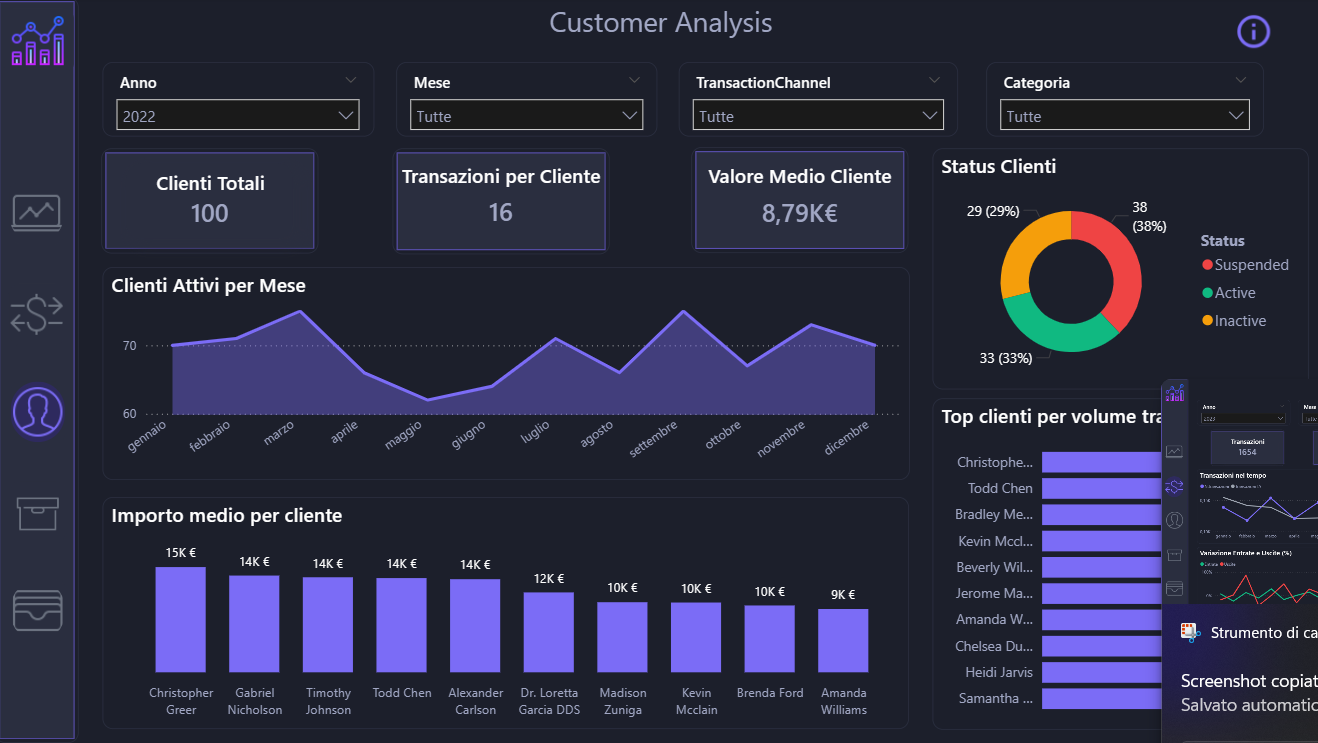

Layout of this report page (visuals, bound fields, positions):
{"tool":"powerbi","page":{"name":"Costumer Analysis","canvas":[1280,720],"ordinal":2},"visuals":[{"type":"shape","box":[0,0,80.8,720.2],"z":0},{"type":"textbox","box":[486.2,0,308.8,83.8],"z":1000},{"type":"slicer","fields":{"Values":["Calendario.Date.Variazione.Gerarchia data.Mese"]},"box":[387.7,62.2,252.4,71.9],"z":2000},{"type":"image","box":[13.3,178.6,54.3,60.3],"z":3000},{"type":"image","box":[13.3,276.3,54.3,60.3],"z":4000},{"type":"image","box":[14.5,370.4,54.3,60.3],"z":5000},{"type":"image","box":[14.5,466.9,54.3,60.3],"z":6000},{"type":"image","box":[14.5,562.2,54.3,60.3],"z":7000},{"type":"slicer","fields":{"Values":["Calendario.Date.Variazione.Gerarchia data.Anno"]},"box":[103.6,62.2,262.1,71.9],"z":8000},{"type":"slicer","fields":{"Values":["FactTransaction.TransactionChannel"]},"box":[659.6,62.2,269.5,71.9],"z":9000},{"type":"slicer","fields":{"Values":["DimProductCategory.ProductCategoryName"]},"box":[957.1,62.2,268.2,71.9],"z":10000},{"type":"shape","box":[102.8,146.3,209.7,101.2],"z":11000},{"type":"card","title":"Clienti Totali","fields":{"Values":["Misure cliente.N.customer"]},"box":[127.2,160.9,160.9,73.2],"z":12000},{"type":"shape","box":[383.1,145.8,209.7,102.4],"z":13000},{"type":"shape","box":[672,144.6,209.7,102.4],"z":14000},{"type":"card","title":"Valore Medio Cliente","fields":{"Values":["Misure cliente.Valore Medio Cliente"]},"box":[672.4,159.2,209.9,75.5],"z":15000},{"type":"card","title":"Transazioni per Cliente","fields":{"Values":["Misure cliente.Avg Transazioni per cliente"]},"box":[378.7,159.2,219.6,72.7],"z":16000},{"type":"barChart","title":"Top clienti per volume transazioni","fields":{"Category":["DimCustomer.FullName"],"Y":["Misure transazioni.N.transazioni"]},"box":[904.8,387.3,363.1,319.7],"z":17000},{"type":"clusteredColumnChart","title":"Importo medio per cliente","fields":{"Category":["DimCustomer.FullName"],"Y":["Misure transazioni.Saldo medio per conto"]},"box":[103.8,482.6,778.2,224.4],"z":18000},{"type":"lineChart","fields":{"Category":["Calendario.Date.Variazione.Gerarchia data.Mese"],"Y":["Misure cliente.Clienti Attivi"]},"box":[104.3,260.7,779.4,205.8],"z":19000},{"type":"image","box":[6.9,11,68.6,63.1],"z":20000},{"type":"donutChart","title":"Status Clienti","fields":{"Category":["DimCustomer.Status"],"Y":["CountNonNull(DimCustomer.CustomerID)"]},"box":[904.8,146,363.1,232.8],"z":21000},{"type":"actionButton","box":[1192,9.7,45.8,47.1],"z":21001}]}

Visuals, with their boxes on the page's 1280x720 design canvas (x1, y1, x2, y2). These are canvas units, not pixel positions in the 1318x743 screenshot, which may show the page scaled, cropped or inside an application window:
shape: [0,0,81,720]
textbox: [486,0,795,84]
slicer - Calendario.Date.Variazione.Gerarchia data.Mese: [388,62,640,134]
image: [13,179,68,239]
image: [13,276,68,337]
image: [14,370,69,431]
image: [14,467,69,527]
image: [14,562,69,622]
slicer - Calendario.Date.Variazione.Gerarchia data.Anno: [104,62,366,134]
slicer - FactTransaction.TransactionChannel: [660,62,929,134]
slicer - DimProductCategory.ProductCategoryName: [957,62,1225,134]
shape: [103,146,312,248]
"Clienti Totali" card: [127,161,288,234]
shape: [383,146,593,248]
shape: [672,145,882,247]
"Valore Medio Cliente" card: [672,159,882,235]
"Transazioni per Cliente" card: [379,159,598,232]
"Top clienti per volume transazioni" barChart: [905,387,1268,707]
"Importo medio per cliente" clusteredColumnChart: [104,483,882,707]
lineChart - Calendario.Date.Variazione.Gerarchia data.Mese x Misure cliente.Clienti Attivi: [104,261,884,466]
image: [7,11,76,74]
"Status Clienti" donutChart: [905,146,1268,379]
actionButton: [1192,10,1238,57]
